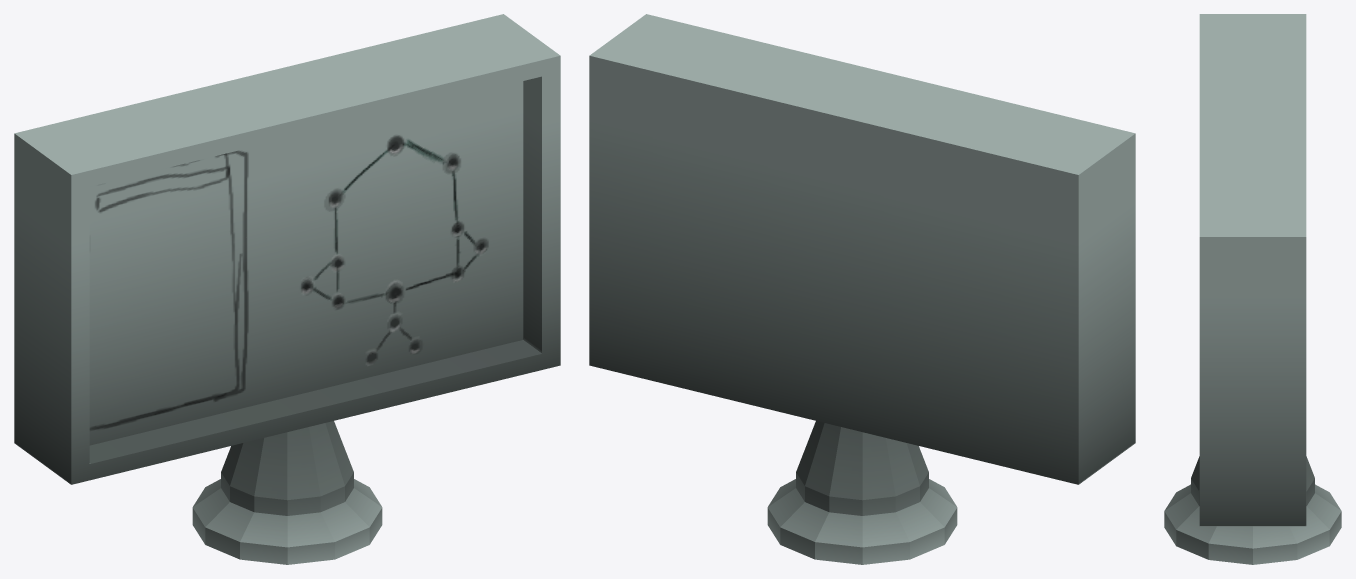
Rendered from Fast Travel.glb.
3 renders of one model, left to right at view 1: azimuth 30°, elevation 25°; view 2: azimuth 150°, elevation 25°; view 3: azimuth 270°, elevation 25°, orthographic. The views are drawn at different scales.
Parts seen in each view (by area): view 1: Cube.019, Cylinder.005; view 2: Cube.019, Cylinder.005; view 3: Cube.019, Cylinder.005.
Part boxes in pixels (x1,y1,x2,y2): Cube.019: [14, 14, 560, 484]; Cylinder.005: [192, 421, 382, 564]; Cube.019: [589, 14, 1135, 484]; Cylinder.005: [767, 421, 957, 564]; Cube.019: [1199, 14, 1306, 526]; Cylinder.005: [1164, 456, 1341, 564].
Bounding box in the file's own units: 2.98 × 2.5 × 1.
1 material, 1 textured.
